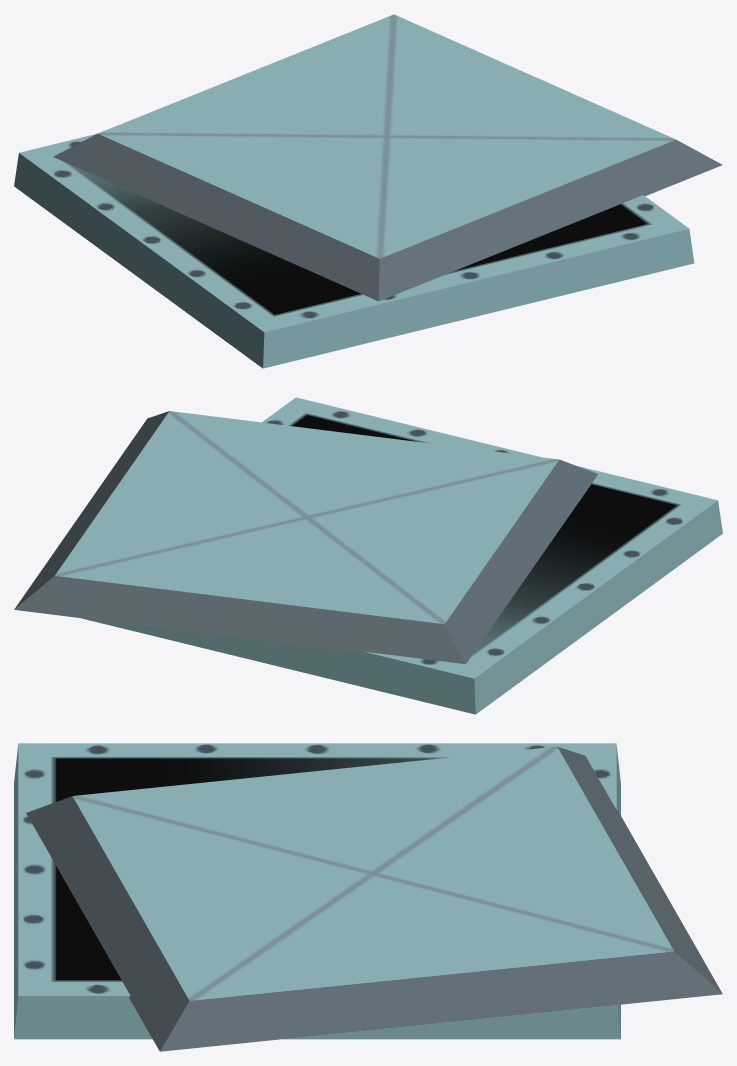
Rendered from checkpoint.fbx.
3 renders of one model, top to bottom at view 1: azimuth 30°, elevation 25°; view 2: azimuth 150°, elevation 25°; view 3: azimuth 270°, elevation 25°, orthographic. The views are drawn at different scales.
Visible parts, largest first — view 1: Hatch, Ground; view 2: Hatch, Ground; view 3: Hatch, Ground.
Part boxes in pixels (<box>): Hatch: <box>53,14,722,301</box>; Ground: <box>14,134,694,368</box>; Hatch: <box>14,411,597,664</box>; Ground: <box>82,397,722,714</box>; Hatch: <box>26,746,722,1051</box>; Ground: <box>14,743,620,1039</box>.
Size of the model in its own units: 995 by 965 by 106.
